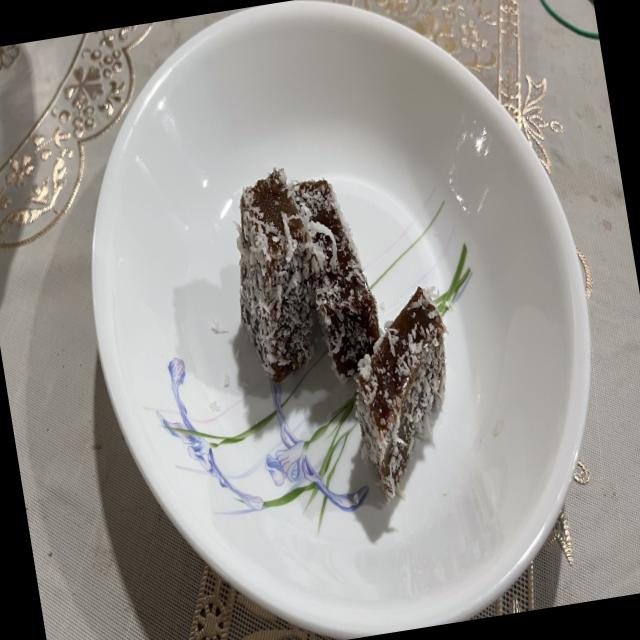kaswi: (286, 179, 381, 382), (356, 286, 446, 498), (240, 168, 320, 387)
